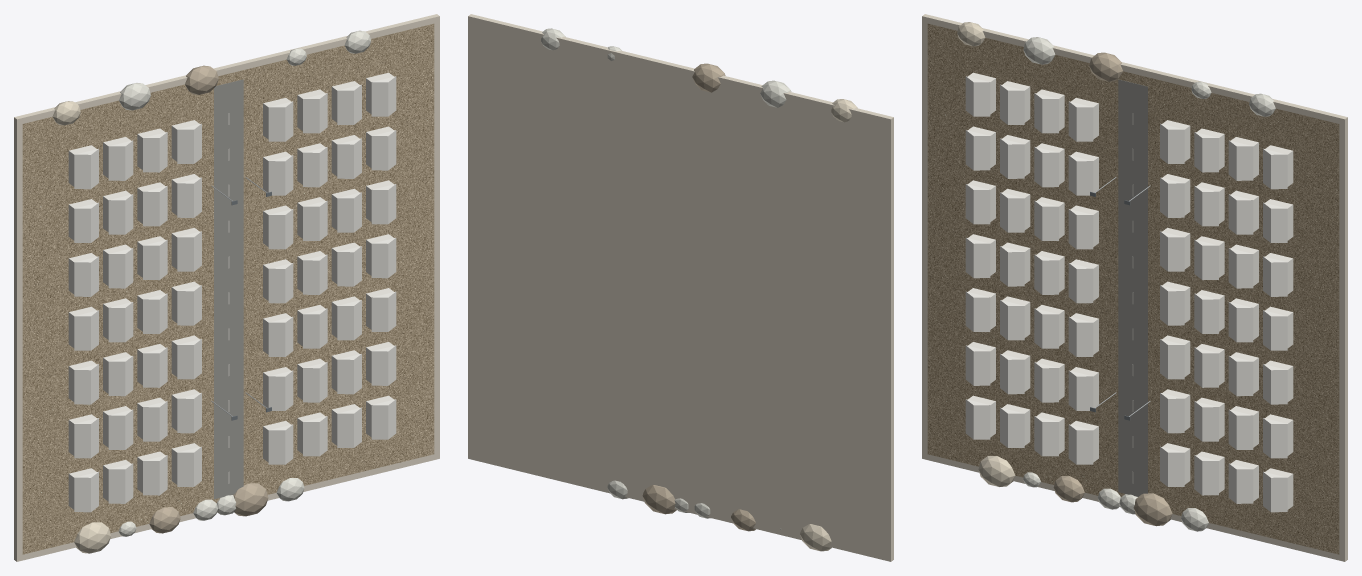
The model's file is step_1.glb.
3 views of the same model, side by side, from view 1: azimuth 30°, elevation 25°; view 2: azimuth 150°, elevation 25°; view 3: azimuth 330°, elevation 25° (orthographic).
Parts seen in each view (by area): view 1: world; view 2: world; view 3: world.
Part boxes in pixels (<box>): world: <box>14,14,439,561</box>; world: <box>468,14,893,561</box>; world: <box>922,14,1347,561</box>.
Size of the model in its own units: 74 by 77.03 by 9.18.
Materials: 14 (1 with a texture image).
